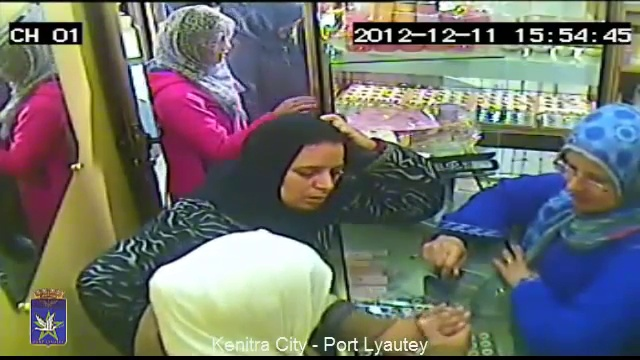face: (279, 146, 345, 211), (562, 155, 620, 214)
